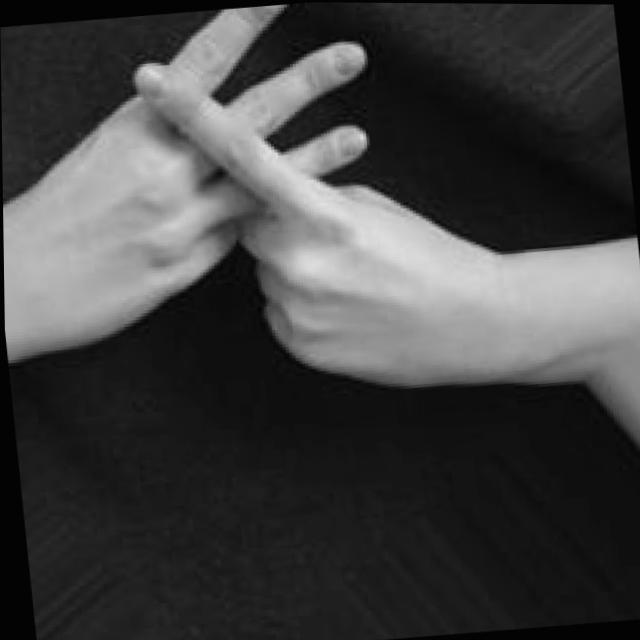E: (0, 0, 505, 424)
